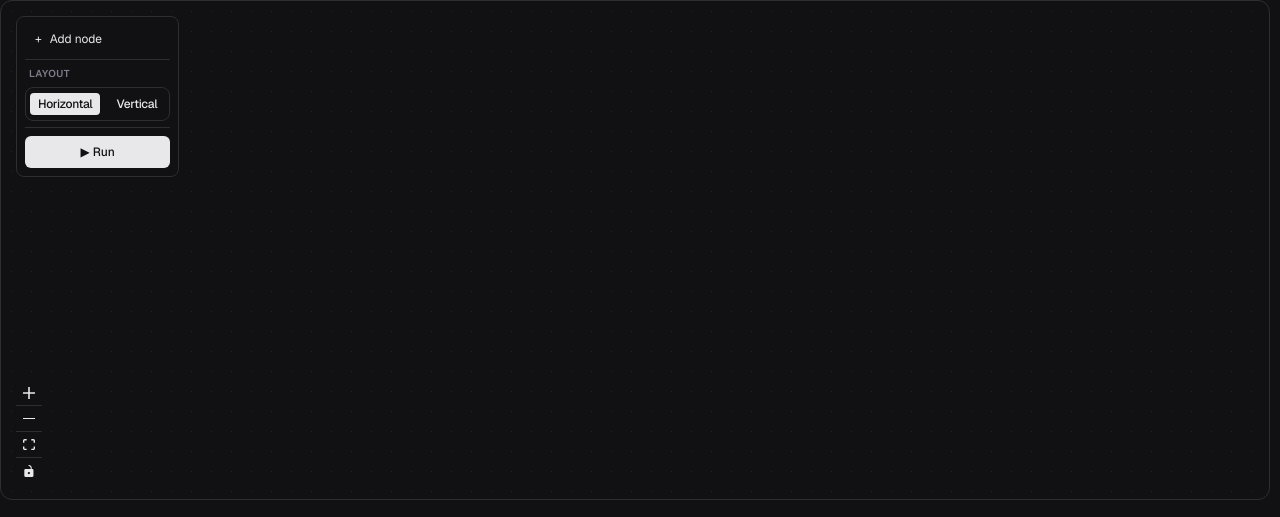
Test: WorkflowBuilder layout direction › disables the layout toggle while the run animation is in progress
Click the button with aria-label "Run workflow animation".
click(98, 152)  # box [25,136,170,168]
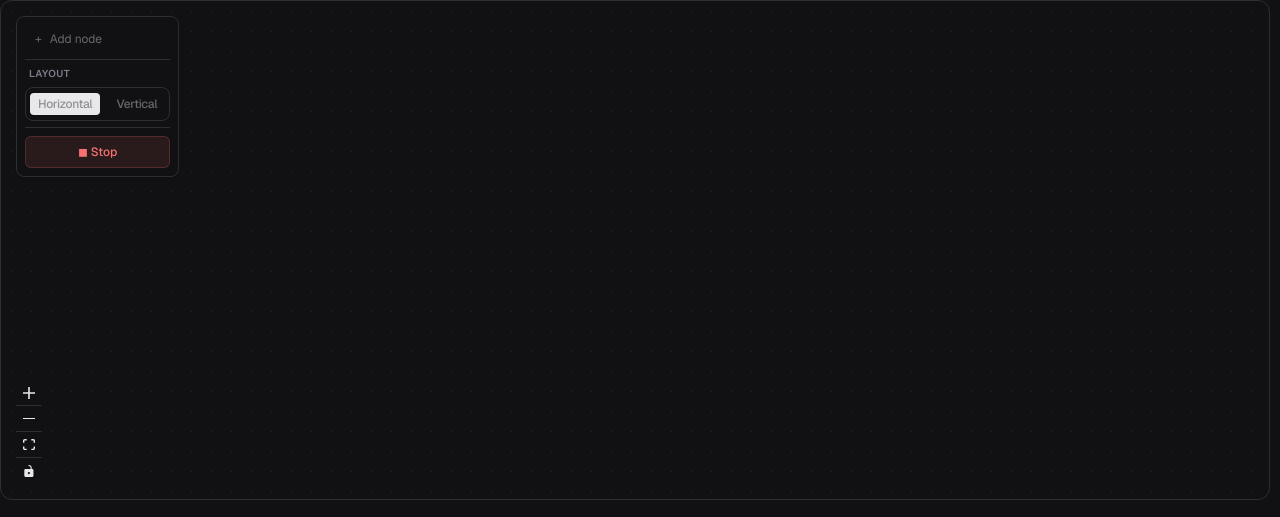
Now the button "Horizontal" is disabled, box [26,88,104,120]
Now the button "Vertical" is disabled, box [104,88,169,120]
